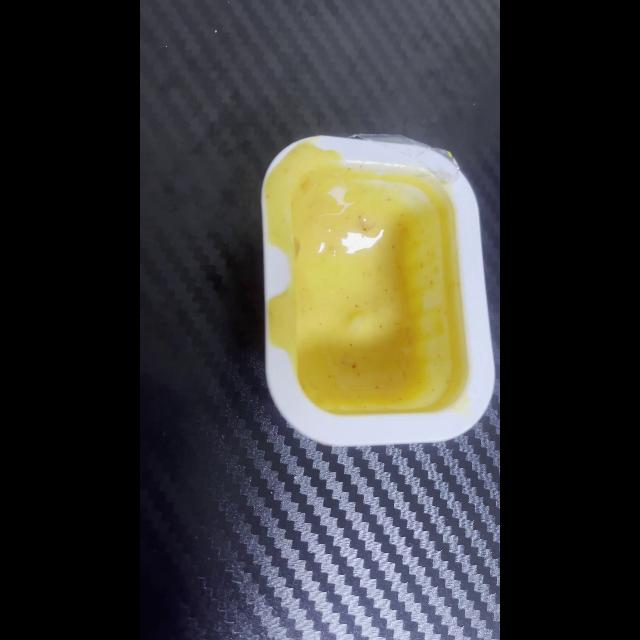dirty: (271, 132, 495, 440)
